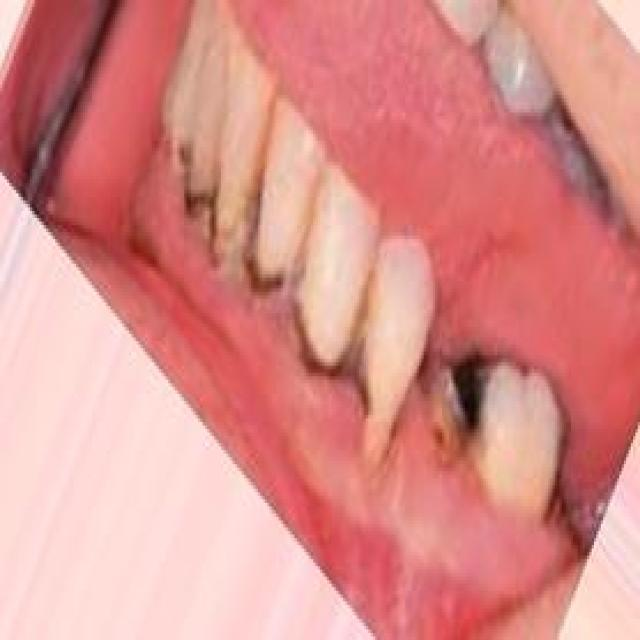caries: (426, 339, 506, 467)
